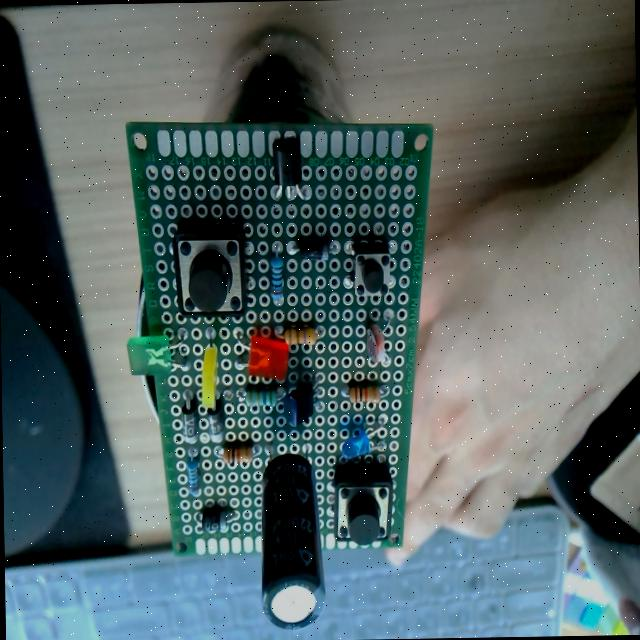Electrolytic capacitor: (258, 452, 327, 628)
cds: (360, 312, 397, 372)
diode: (294, 239, 332, 261), (201, 507, 233, 532), (206, 400, 224, 442), (181, 397, 197, 442)
led: (246, 332, 290, 384), (125, 335, 172, 377), (340, 422, 388, 462), (200, 345, 219, 409)
resistor: (283, 324, 318, 346), (268, 254, 284, 302), (244, 386, 276, 408), (222, 442, 254, 463), (349, 384, 380, 404), (186, 458, 199, 498)
switch: (172, 224, 248, 318), (331, 466, 393, 546), (350, 242, 390, 298)
transistor: (263, 135, 311, 209), (282, 376, 326, 428)
